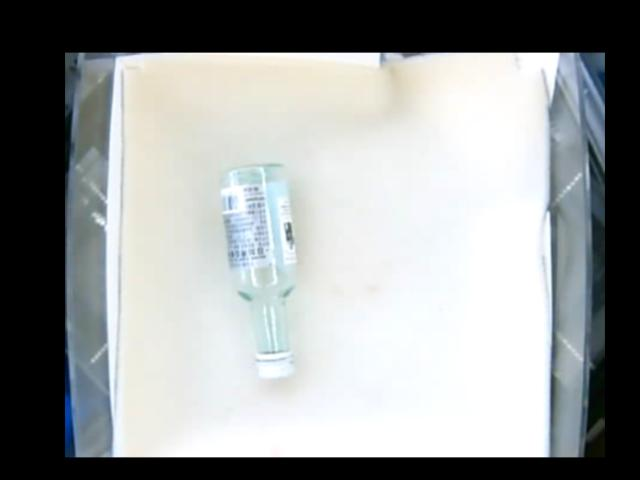Bottle: (219, 161, 299, 378)
